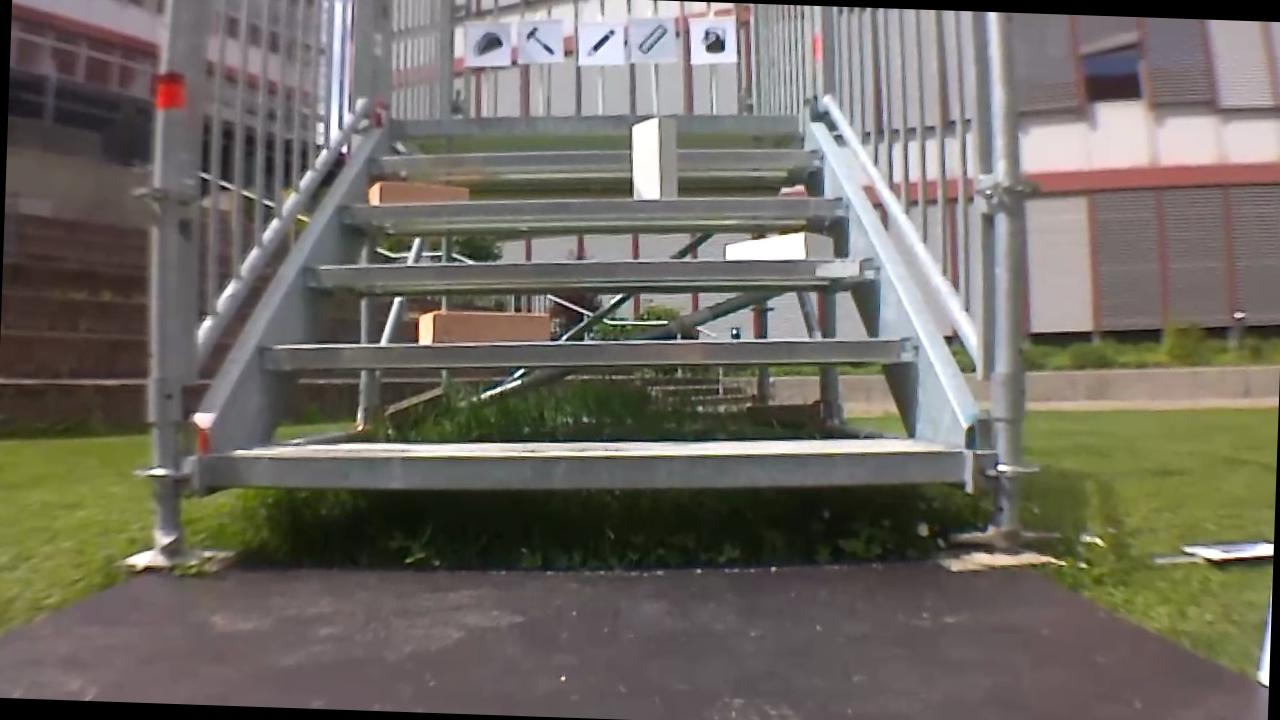brick: (417, 308, 549, 345), (629, 116, 678, 200), (725, 226, 831, 263), (368, 179, 465, 204)
bucket: (694, 21, 730, 55)
edge: (209, 421, 969, 510), (260, 317, 914, 383), (308, 239, 878, 300), (340, 179, 850, 233), (372, 134, 826, 186), (392, 101, 794, 143)
hammer: (518, 20, 562, 61)
pencil: (581, 22, 620, 59)
ruler: (632, 21, 672, 57)
steps: (200, 90, 993, 524)
taco: (464, 28, 507, 60)
